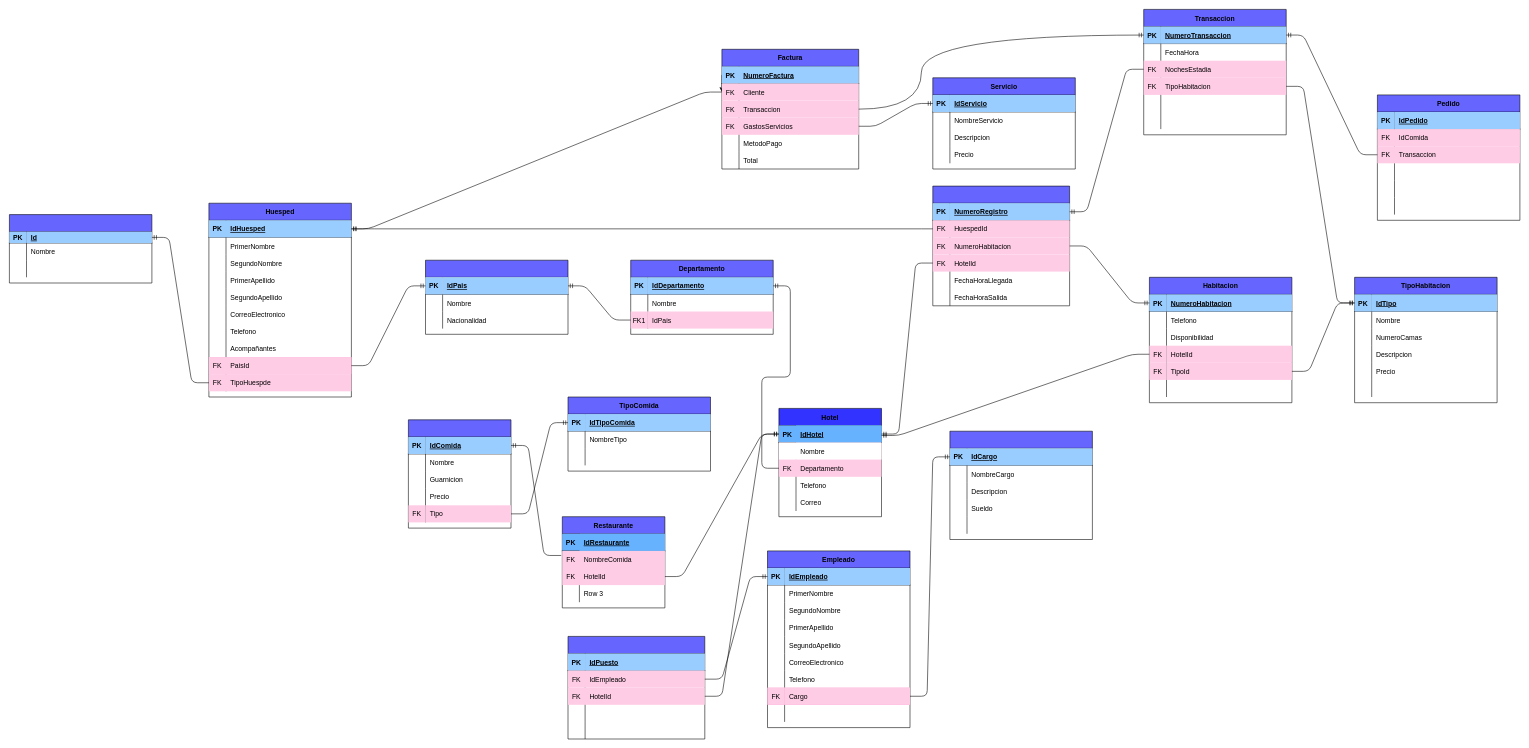
This 1529x748 diagram has some shape labels left out. The shapes that lost their labels are listed below. From the top down, each one's box as (x1, y1, x2, y2) in pixels, then its label:
(9, 214, 152, 283): TipoHuesped
(932, 186, 1070, 306): HuespedHabitacion
(425, 260, 568, 334): Paises
(408, 419, 511, 528): ComidaRestaurante
(949, 431, 1092, 540): CargoEmpleado
(567, 636, 705, 739): EmpleadoHotel
